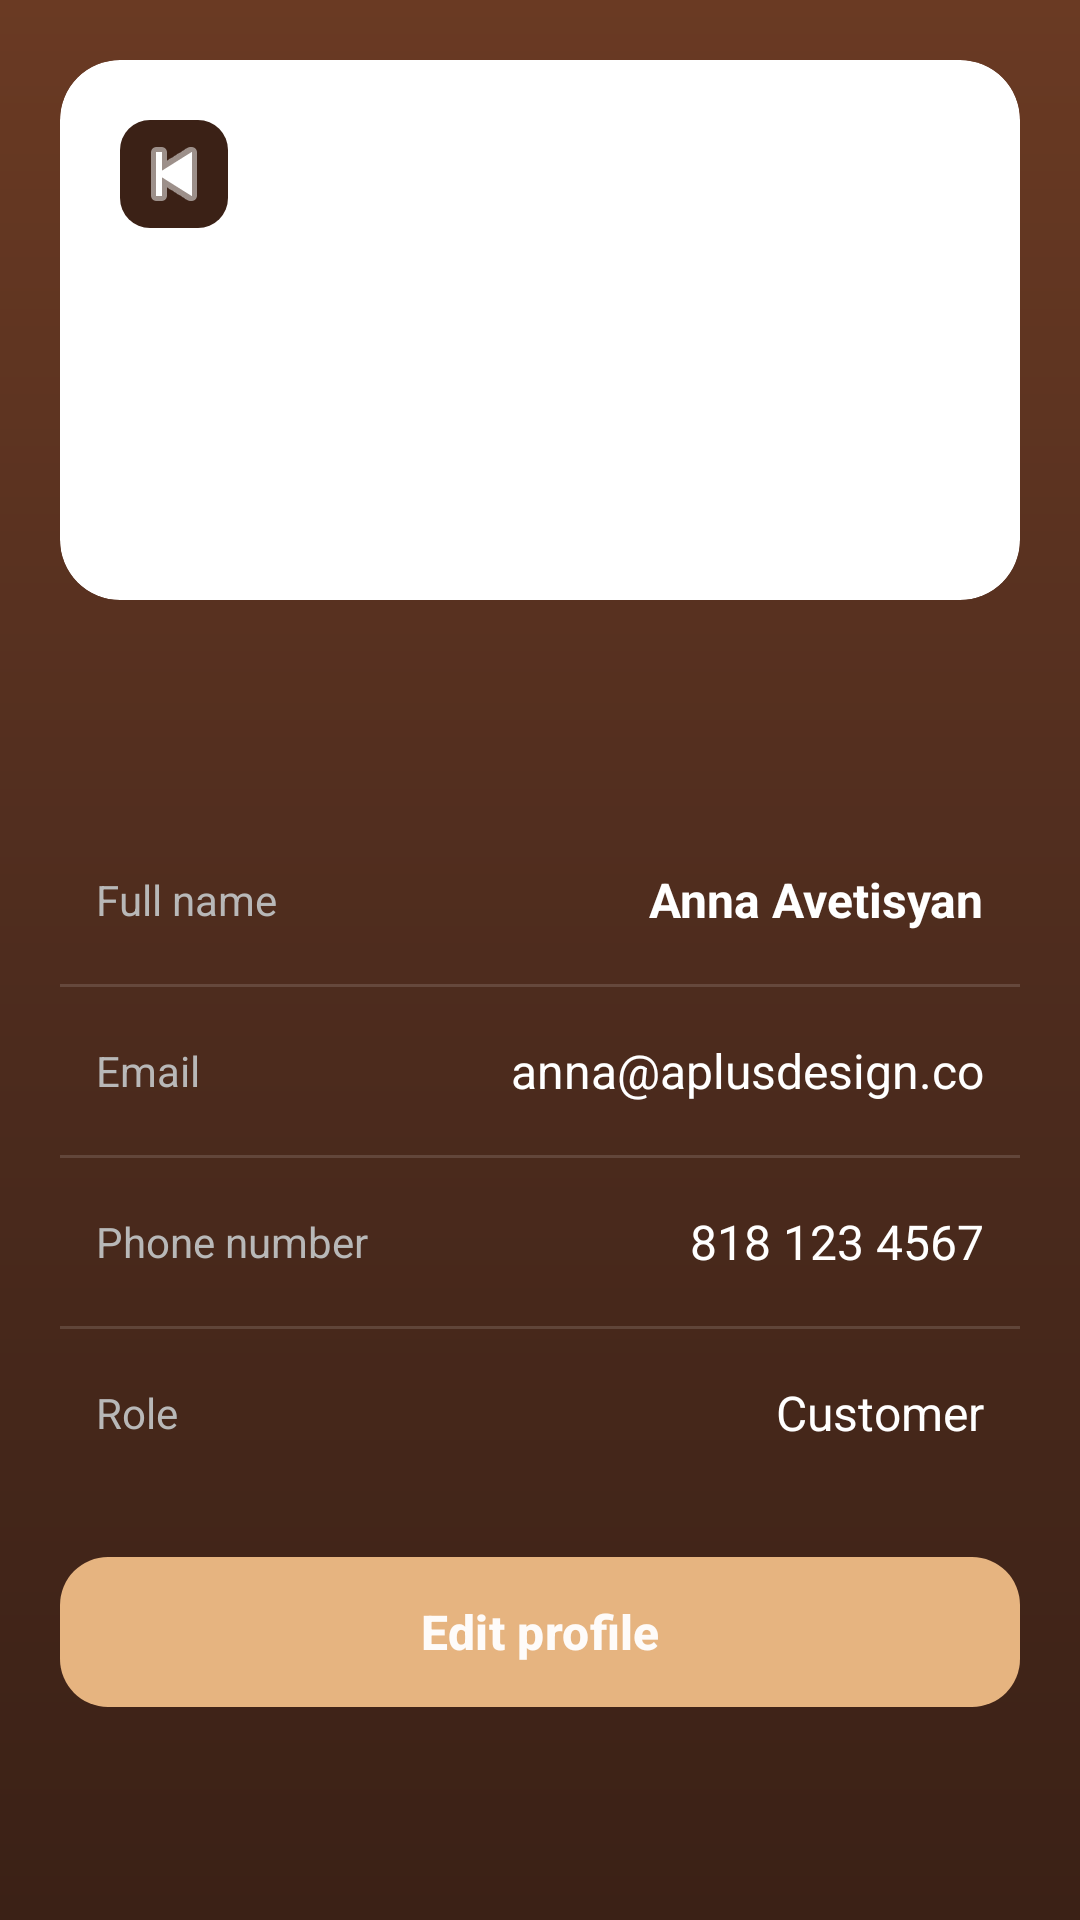

Named icons in this screenshot (1080 x 1920) and their centers, [x,y]:
previous: [174,174]
